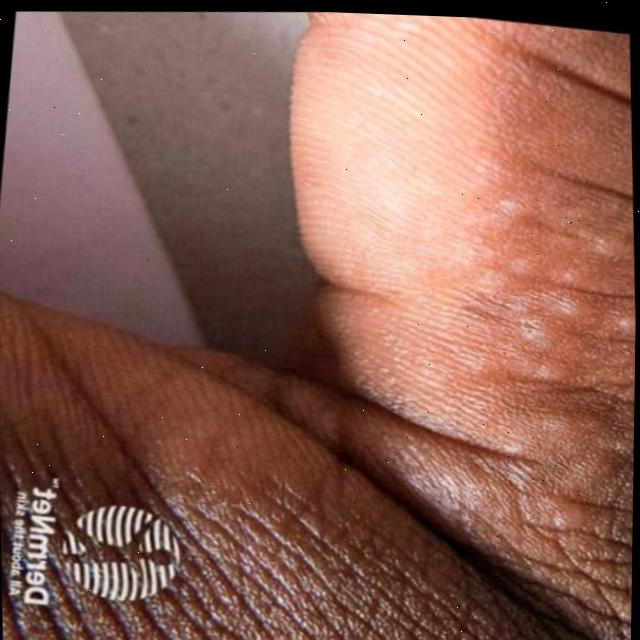Eczema: (403, 34, 640, 481)
